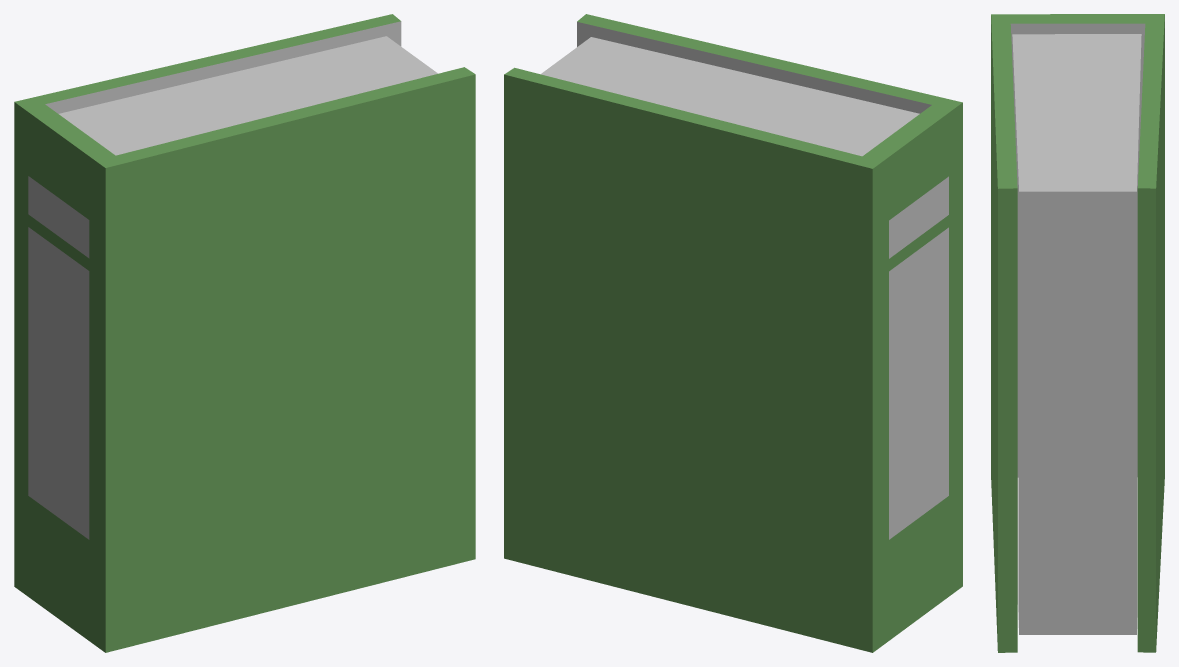
Rendered from SM_Book_07.fbx.
3 renders of one model, left to right at view 1: azimuth 30°, elevation 25°; view 2: azimuth 150°, elevation 25°; view 3: azimuth 270°, elevation 25°, orthographic. The views are drawn at different scales.
Parts seen in each view (by area): view 1: SM_Book_07; view 2: SM_Book_07; view 3: SM_Book_07.
Part boxes in pixels (box(x1,y1,x2,y2)): SM_Book_07: box(14, 14, 475, 652); SM_Book_07: box(504, 14, 962, 652); SM_Book_07: box(991, 14, 1164, 652).
Size of the model in its own units: 32.21 by 39.76 by 13.49.
Materials: 1 (1 with a texture image).
